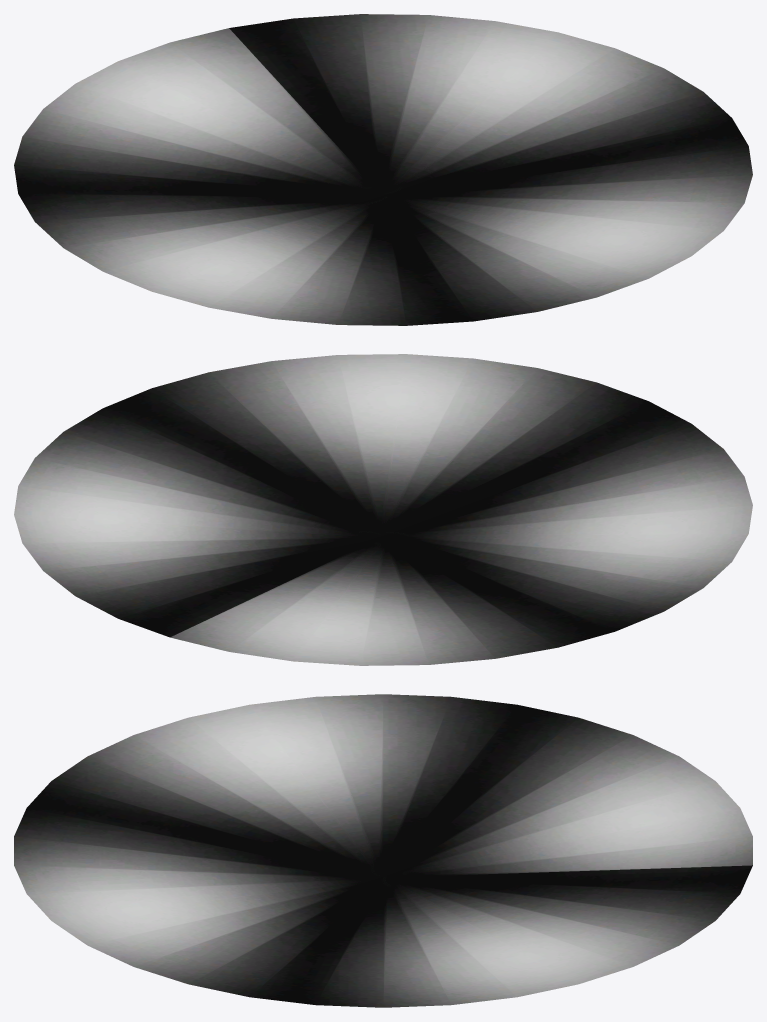
The model's file is vfx_kurp_1205.dae.
The picture shows the model from 3 angles, top to bottom: view 1: azimuth 30°, elevation 25°; view 2: azimuth 150°, elevation 25°; view 3: azimuth 270°, elevation 25°; orthographic projection.
Visible parts, largest first — view 1: vfx_kurp_1205; view 2: vfx_kurp_1205; view 3: vfx_kurp_1205.
Boxes of the visible parts, x1,y1,x2,y2 form: vfx_kurp_1205: (14,14,752,325); vfx_kurp_1205: (14,354,752,665); vfx_kurp_1205: (14,694,752,1007).
Bounding box in the file's own units: 5.62 × 5.6 × 0.2067.
Materials: 1 (1 with a texture image).
